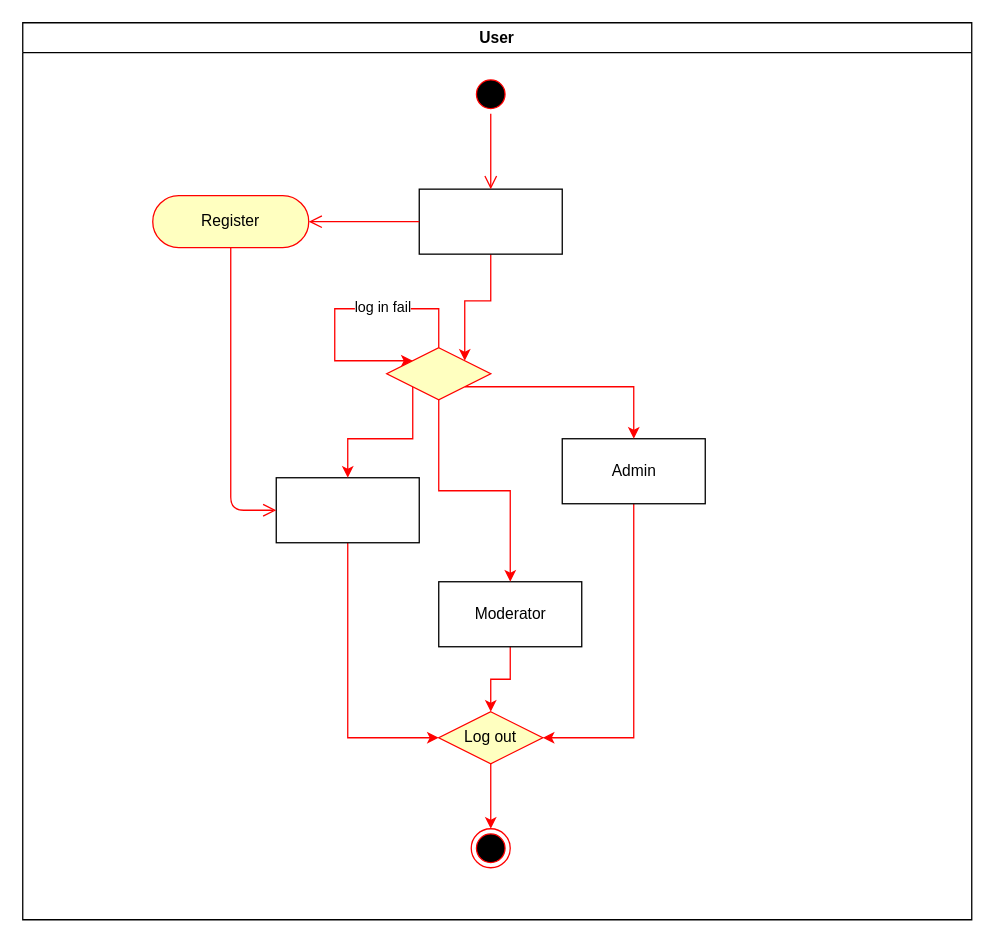
Some shapes in this 994 by 942 pixel diagram are drawn without their labels. Each missing label, with the centre of its shape:
"Log In" goes at point (438, 373).
"RegisteredUser" goes at point (347, 509).
"Visitor" goes at point (490, 221).
